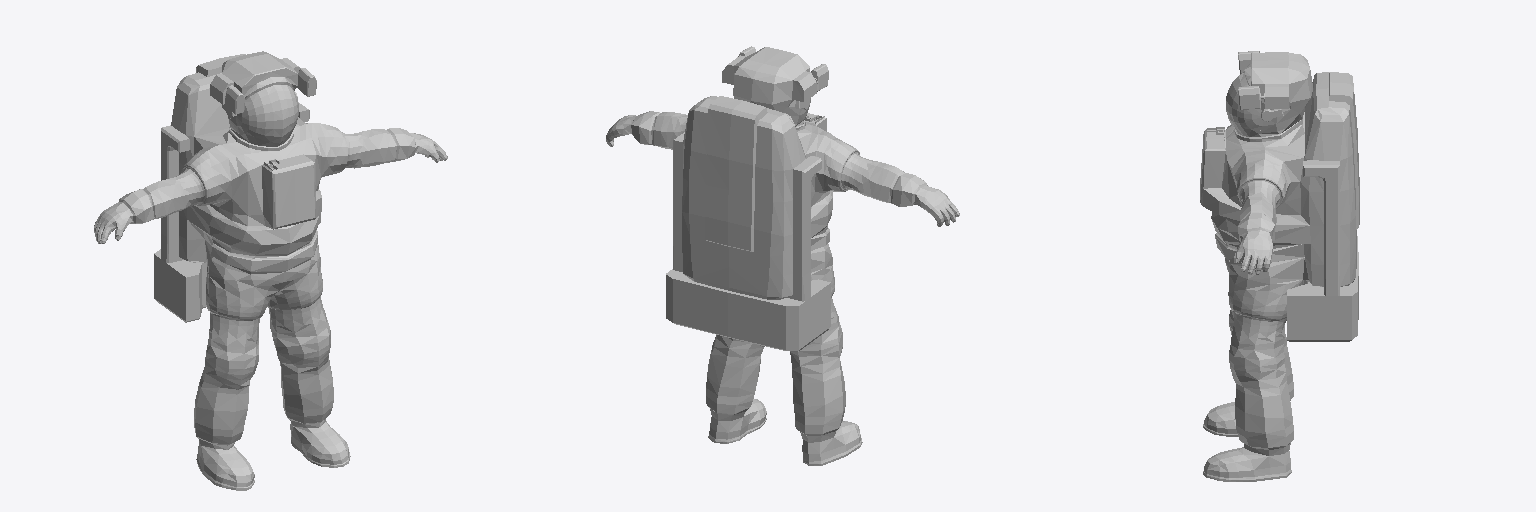
Rendered from astronaut.obj.
The picture shows the model from 3 angles: view 1: azimuth 30°, elevation 25°; view 2: azimuth 150°, elevation 25°; view 3: azimuth 270°, elevation 25°; orthographic projection.
Visible parts, largest first — view 1: astronaut1; view 2: astronaut1; view 3: astronaut1.
Boxes of the visible parts, <box> form: astronaut1: <box>94,51,447,490</box>; astronaut1: <box>606,46,959,465</box>; astronaut1: <box>1200,51,1359,481</box>.
Size of the model in its own units: 13.78 by 14.85 by 5.52.